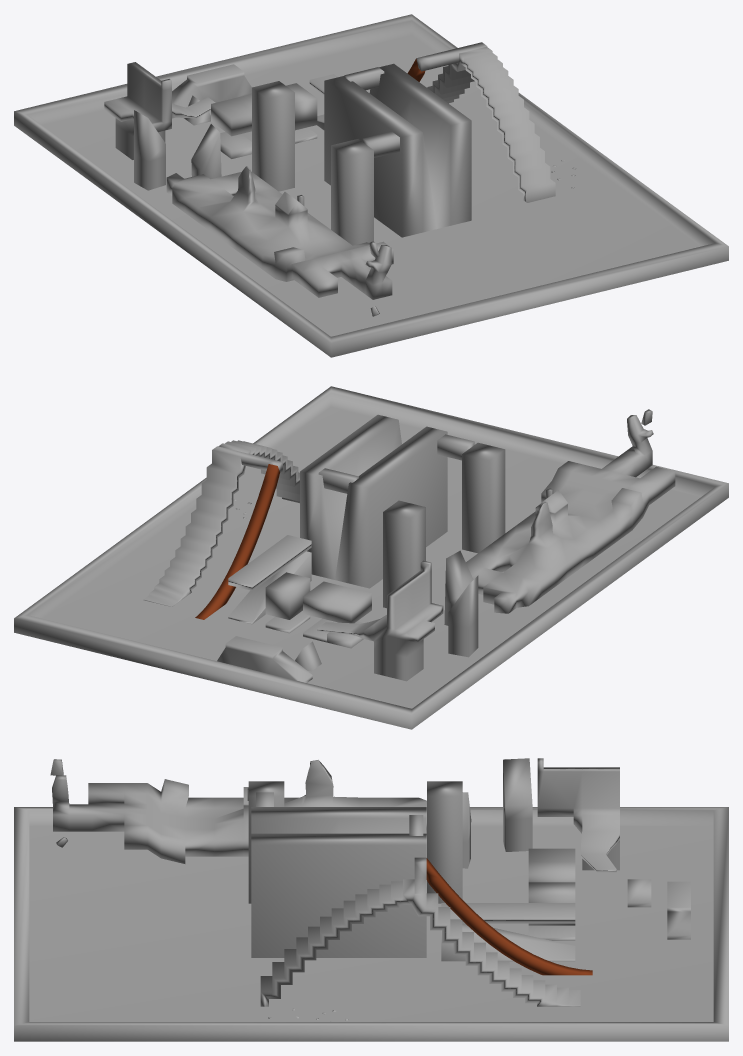
File: CharacterControllerTestTerrain.fbx
The picture shows the model from 3 angles, top to bottom: view 1: azimuth 30°, elevation 25°; view 2: azimuth 150°, elevation 25°; view 3: azimuth 270°, elevation 25°; orthographic projection. The views are drawn at different scales.
Parts seen in each view (by area): view 1: mesh; view 2: mesh; view 3: mesh.
Part boxes in pixels (bbox=[...]): mesh: bbox=[14, 14, 728, 357]; mesh: bbox=[14, 386, 728, 729]; mesh: bbox=[14, 758, 728, 1041].
Size of the model in its own units: 4366 by 1170 by 6030.
